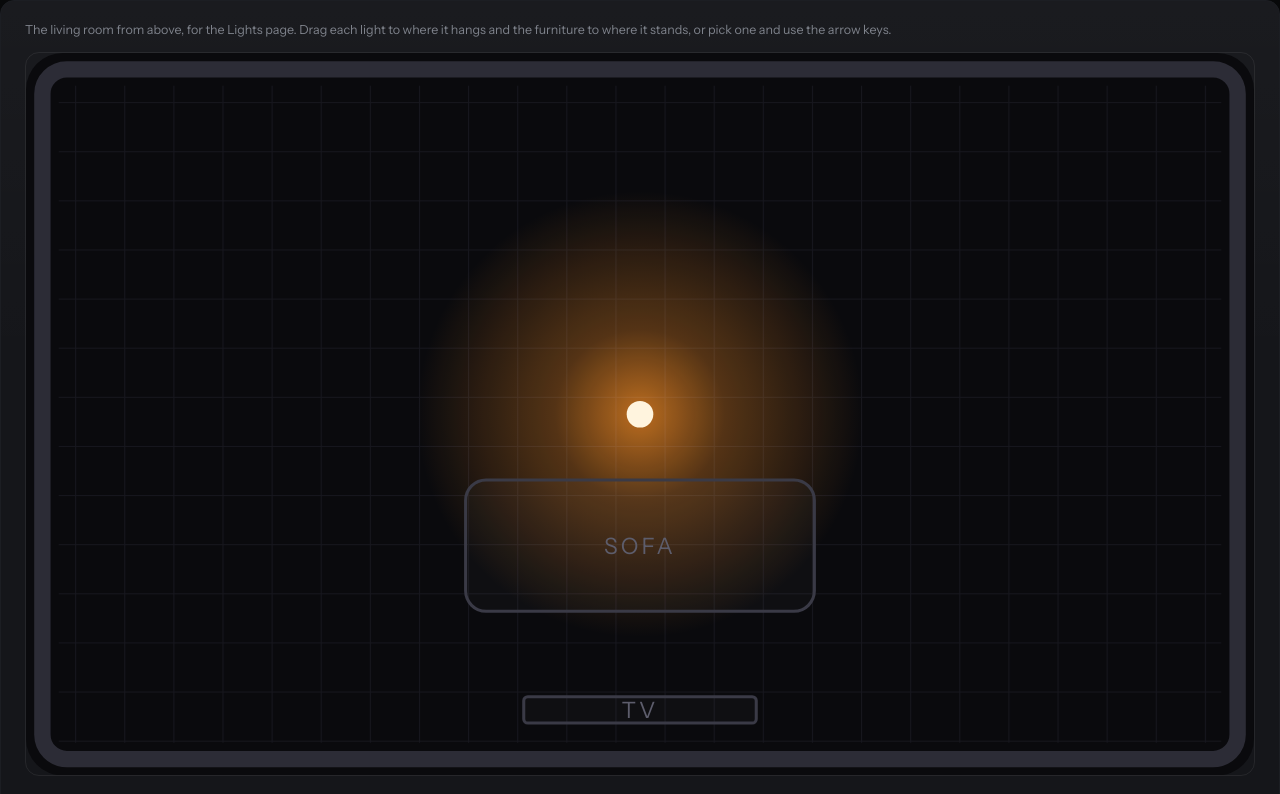
Scenario: LightsPlanEditor › moves lights and furniture, turns and removes pieces, and saves the plan
Press ArrowRight in the button "Bank:", box x1=603 y1=377 x2=677 y2=451
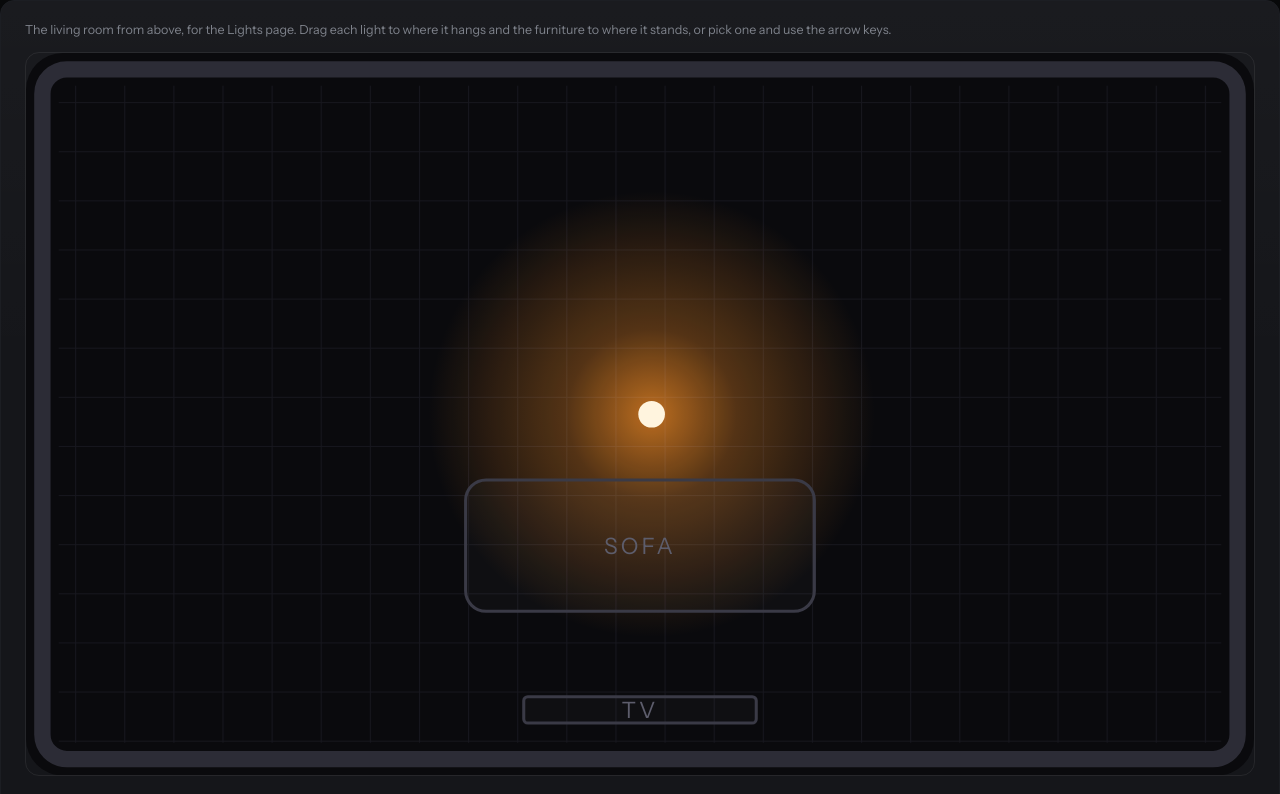
Press ArrowUp in the button "Sofa:", box x1=604 y1=532 x2=676 y2=560
(page scrolled)
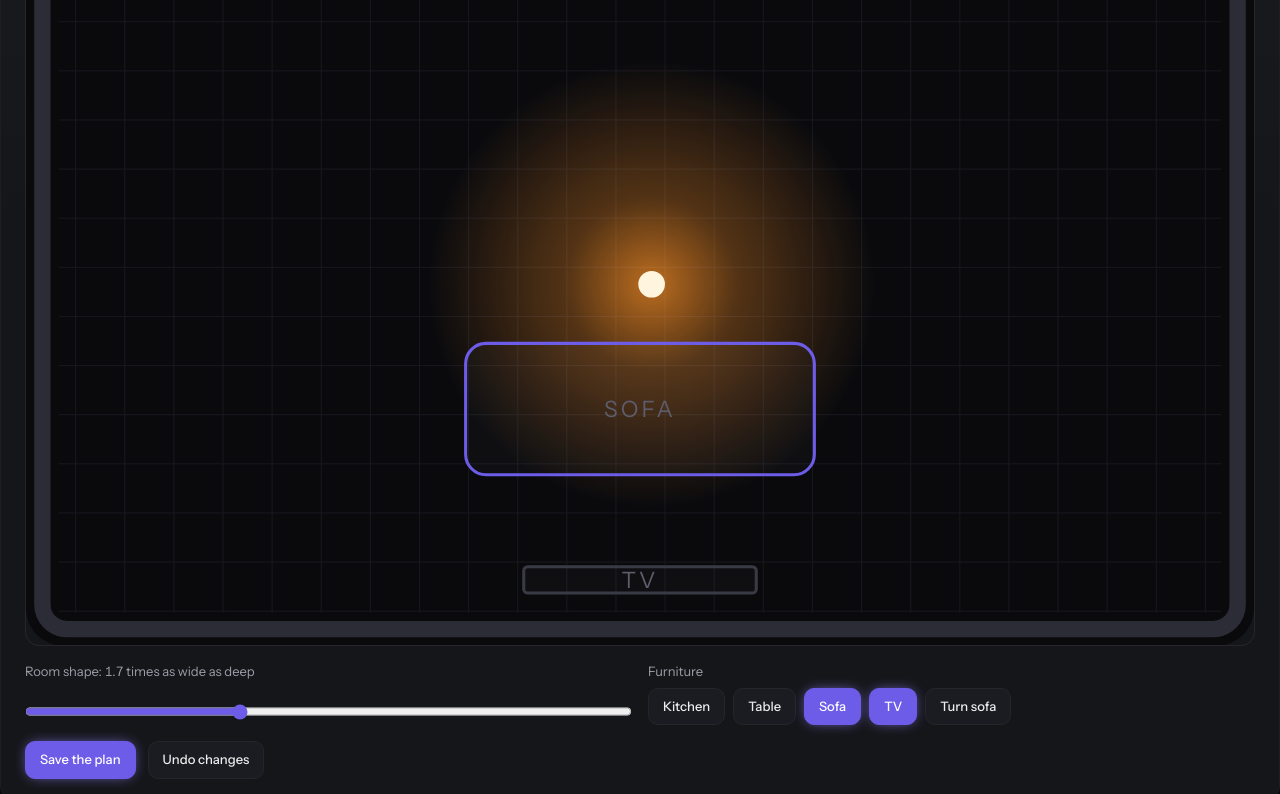
Click the button "Turn sofa". click: (968, 706)
box: x1=925 y1=688 x2=1011 y2=725
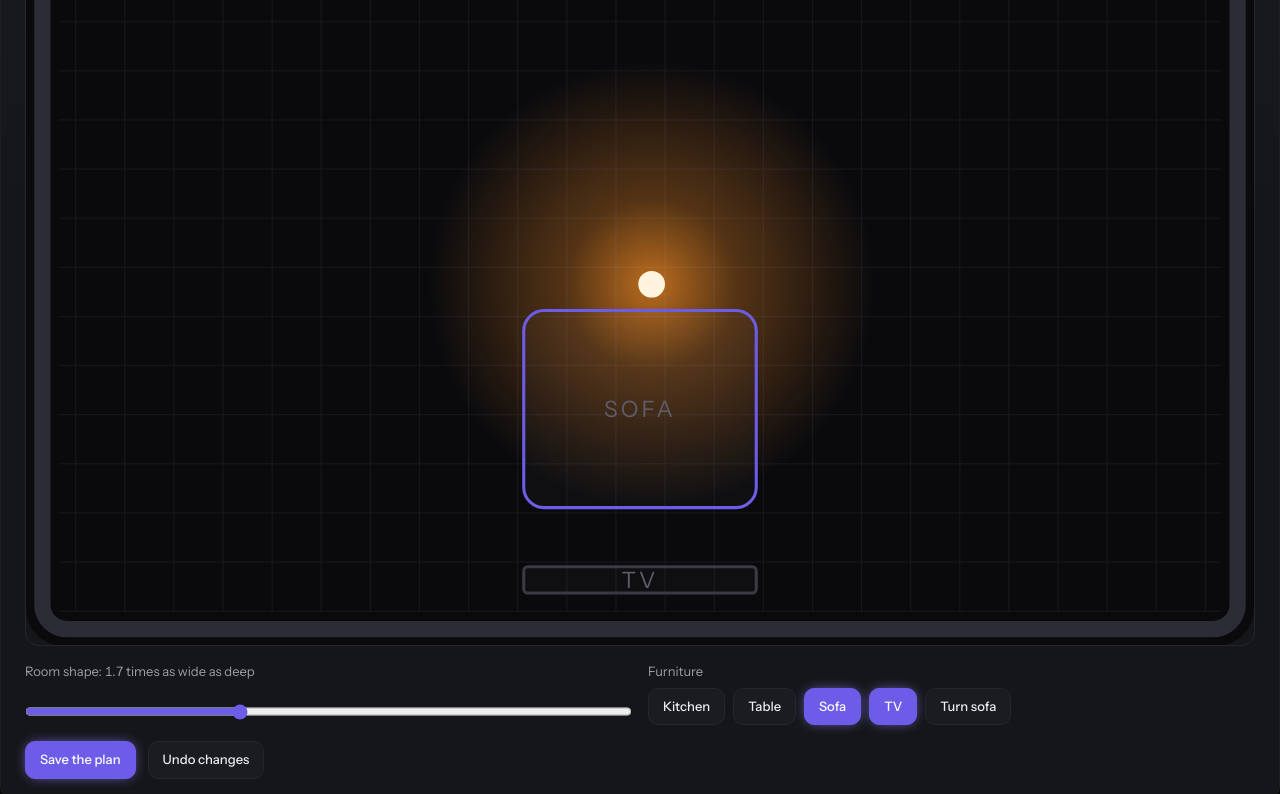
Click the button "TV". click: (893, 706)
box: x1=869 y1=688 x2=917 y2=725
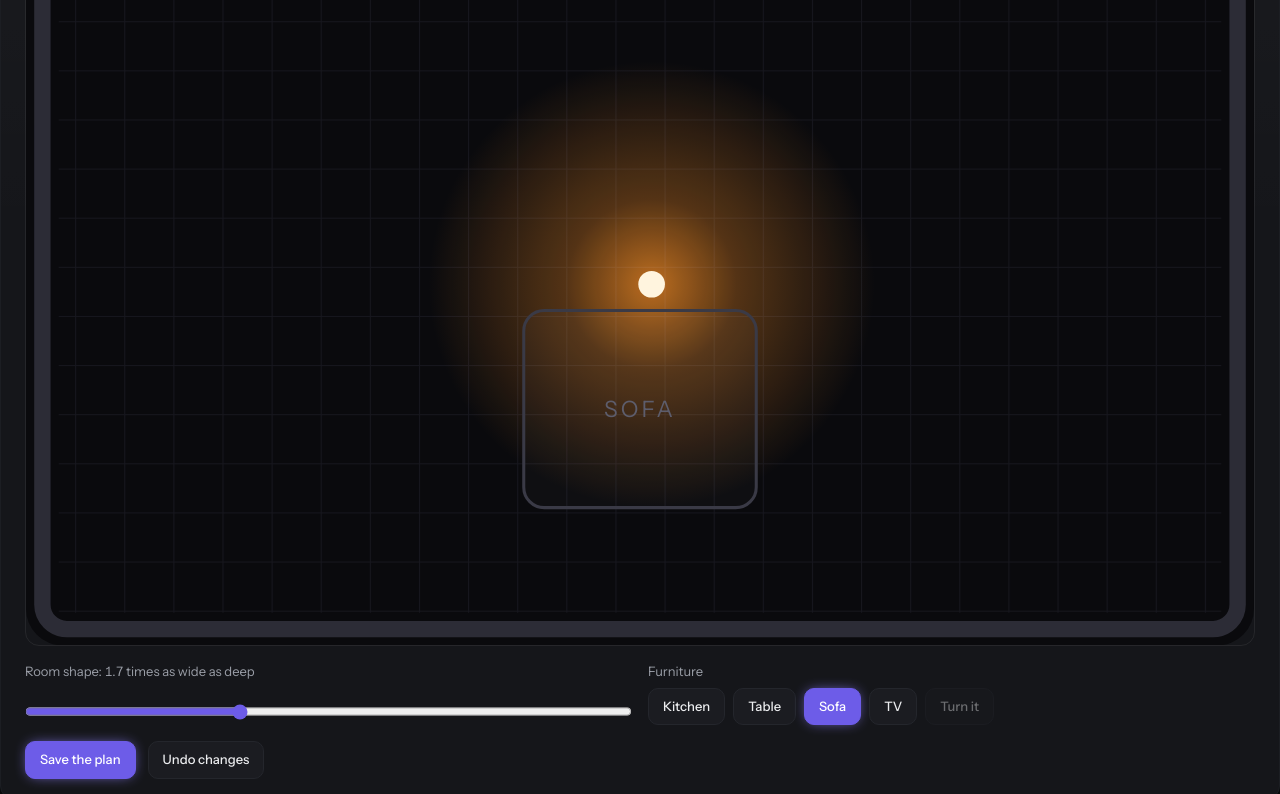
Click the button "Save the plan". click: (80, 760)
box: x1=25 y1=741 x2=136 y2=779
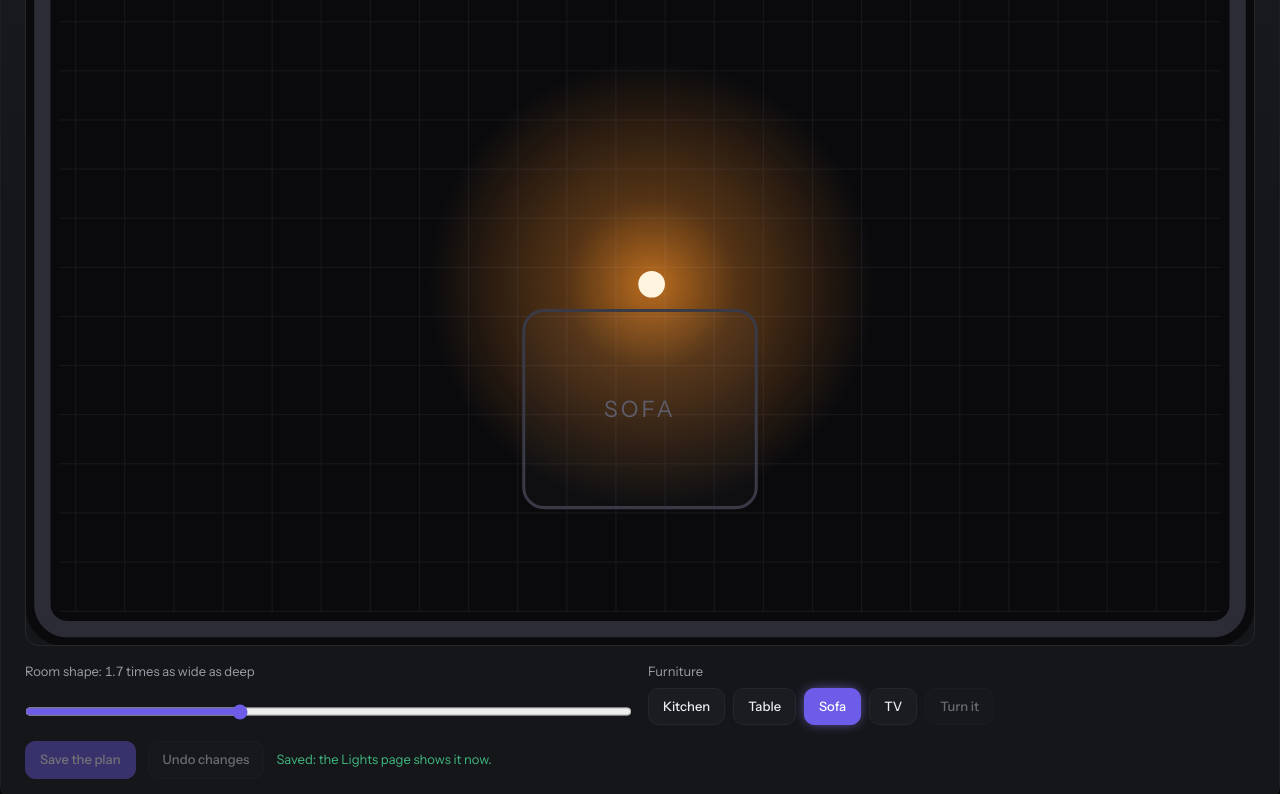
Now the message shows "Saved", box x1=276 y1=751 x2=492 y2=767
